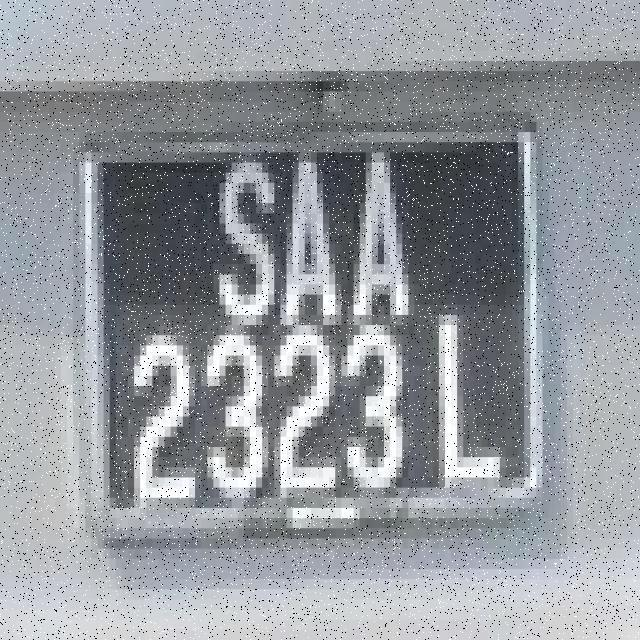LicensePlate: (78, 123, 552, 546)
